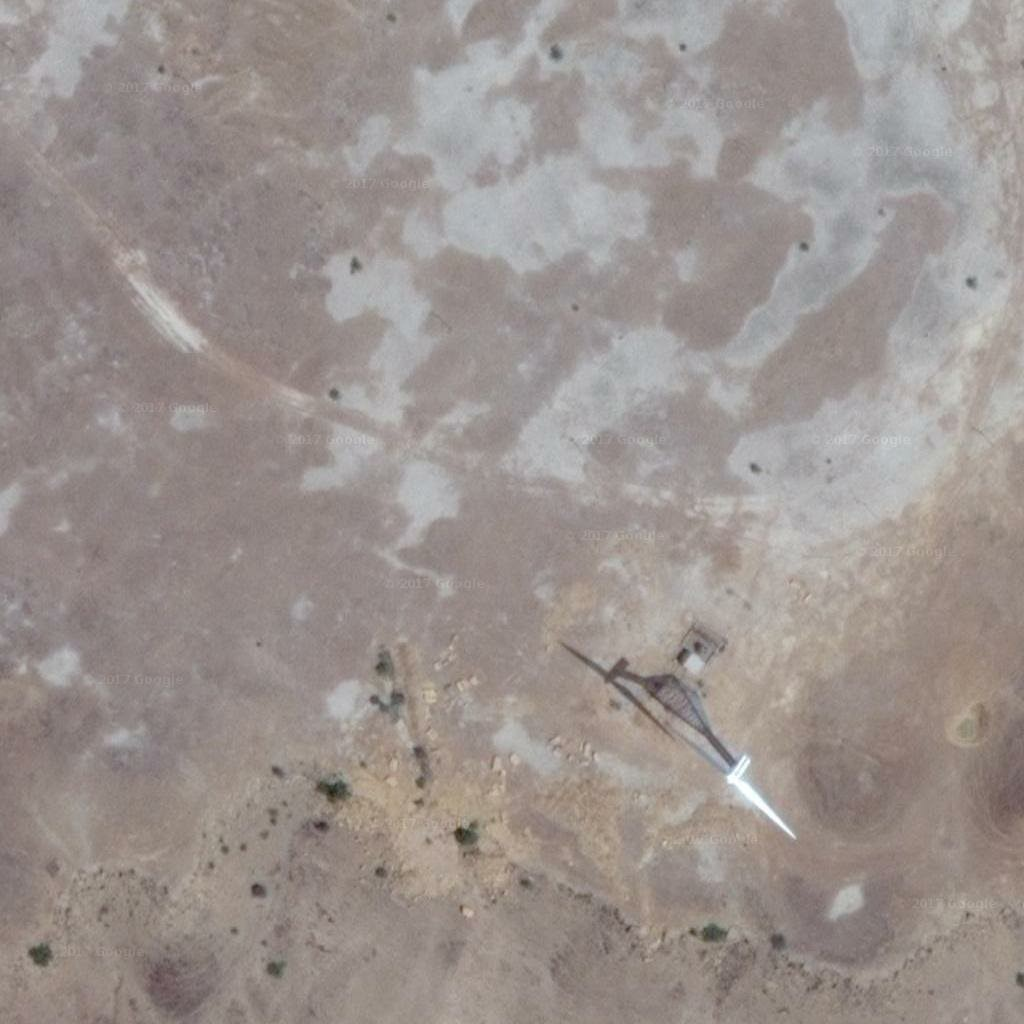Windmill: (557, 631, 722, 716)
